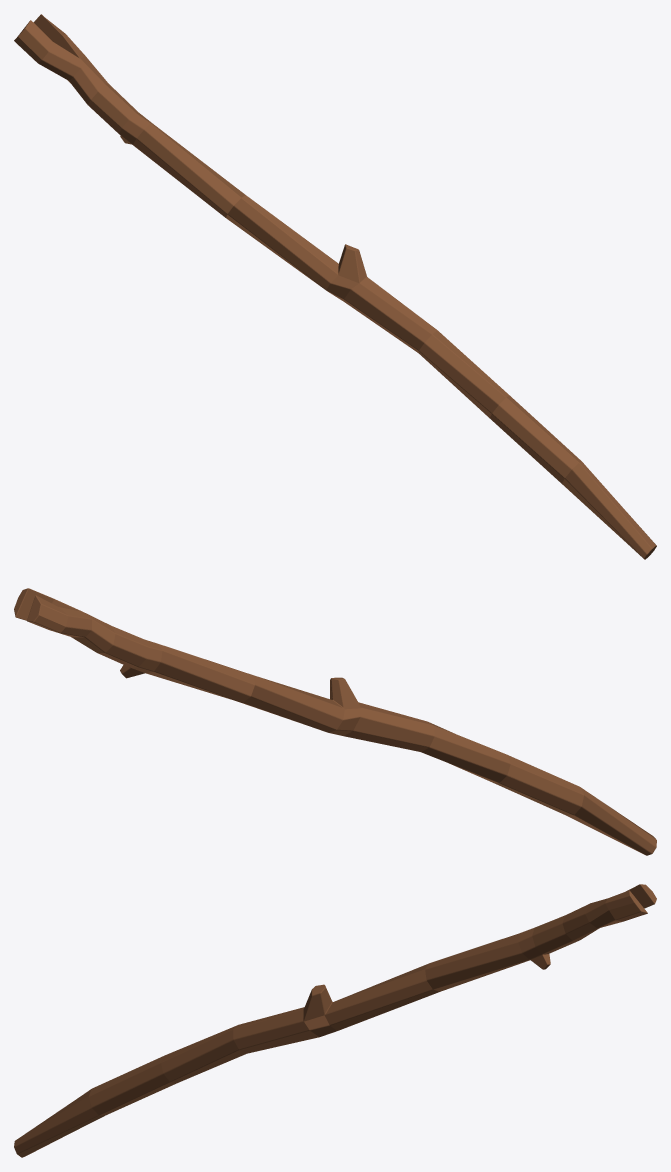
The model's file is pickSwing.fbx.
The picture shows the model from 3 angles, top to bottom: view 1: azimuth 90°, elevation 25°; view 2: azimuth 150°, elevation 25°; view 3: azimuth 270°, elevation 25°; orthographic projection. The views are drawn at different scales.
Parts seen in each view (by area): view 1: Cylinder.001; view 2: Cylinder.001; view 3: Cylinder.001.
Boxes of the visible parts, left/top/right/bottom form: Cylinder.001: left=14, top=14, right=656, bottom=559; Cylinder.001: left=14, top=588, right=656, bottom=855; Cylinder.001: left=14, top=884, right=656, bottom=1157.
Size of the model in its own units: 260 by 334 by 479.
